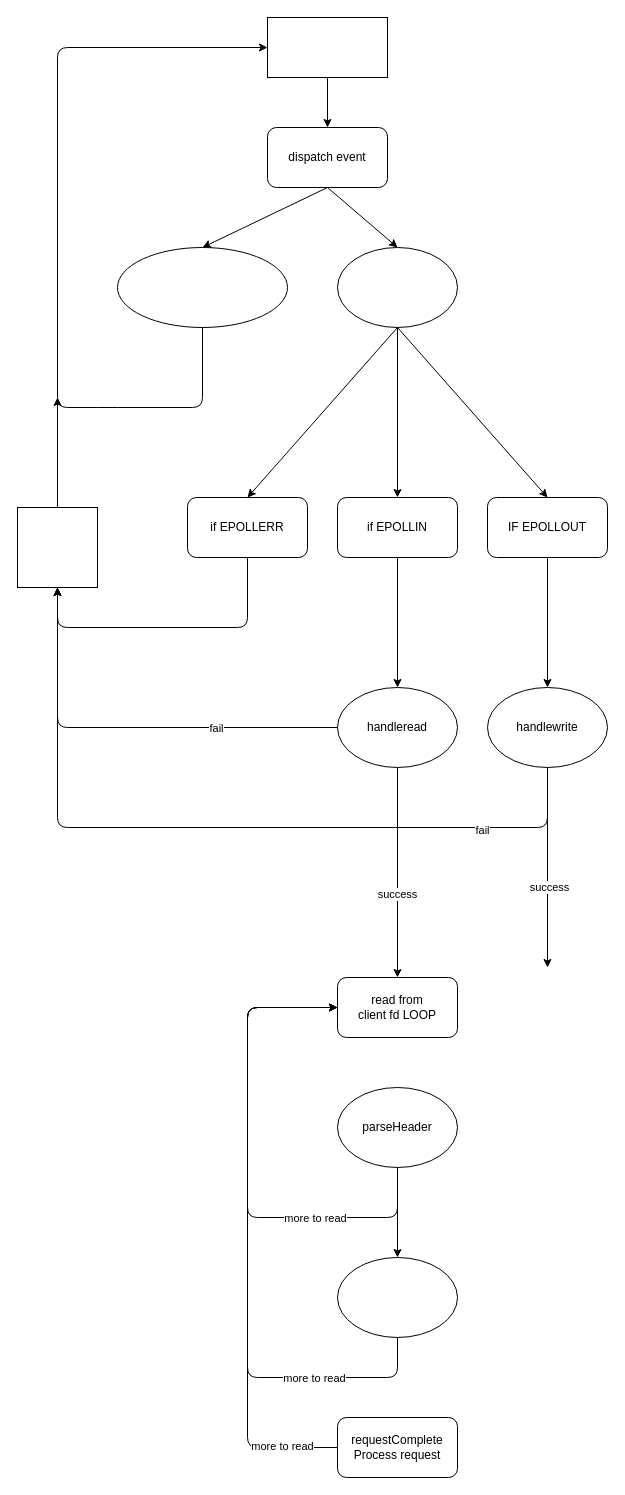
Image size: 625x1495. Some labels were removed from this diagram. Here are the shapes that lost their labels. From the top down, the centre of each, then its label:
At [327,47]: "Main loop".
At [202,287]: "if serverblock find handlenewconnection".
At [397,287]: "if fd in request map".
At [57,547]: "delfromepoll".
At [397,1297]: "header complete parse body".
